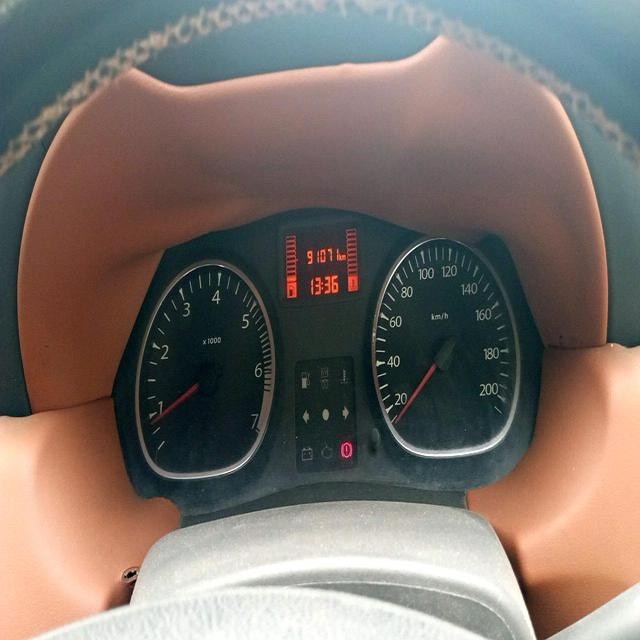odometer: (304, 246, 340, 266)
